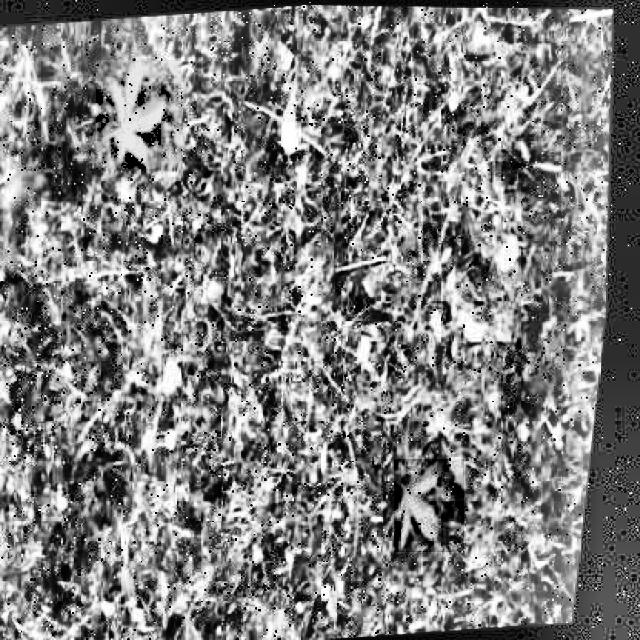Weeds: (96, 60, 181, 169), (394, 459, 464, 552)
